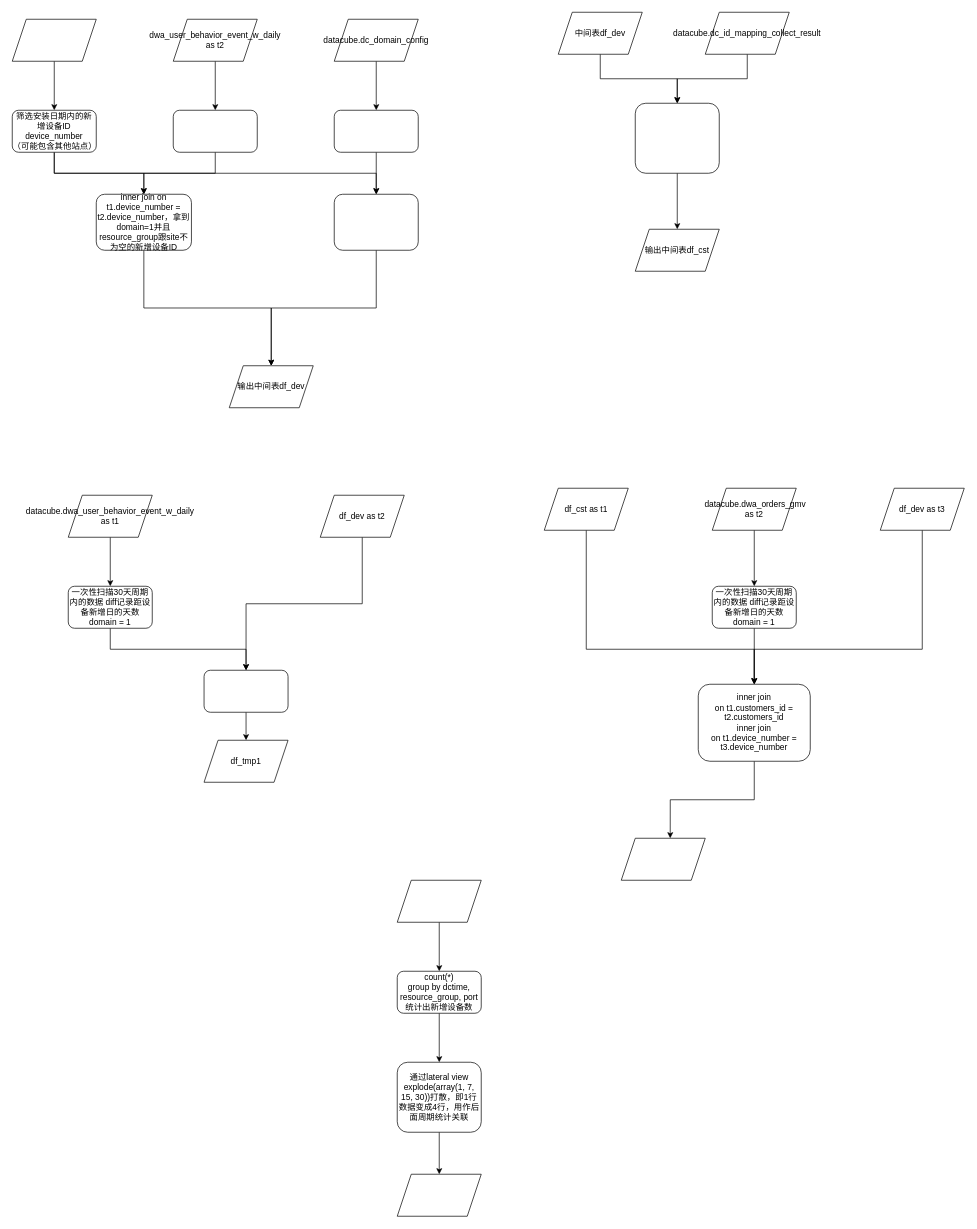
Image size: 977x1229. Some labels were removed from this diagram. Here are the shapes that lost their labels. From the top down, the centre of each, then its label:
point 54,40: dc_phone_source as t1
point 215,131: 筛选出domain=1,并且resource_group 跟 site 不为空的device_number
point 376,131: 筛选出domain=1的 site, port
point 677,138: inner join on t1.device_number = t2.current_device_id 获取新增设备对应customers_id
point 376,222: left join on t2.site = t3.site 拿到domain等于1的port
point 245,691: inner join on t1.device_number = t2.device_number
point 663,859: df_tmp2
point 439,901: df_dev
point 439,1195: df_res
